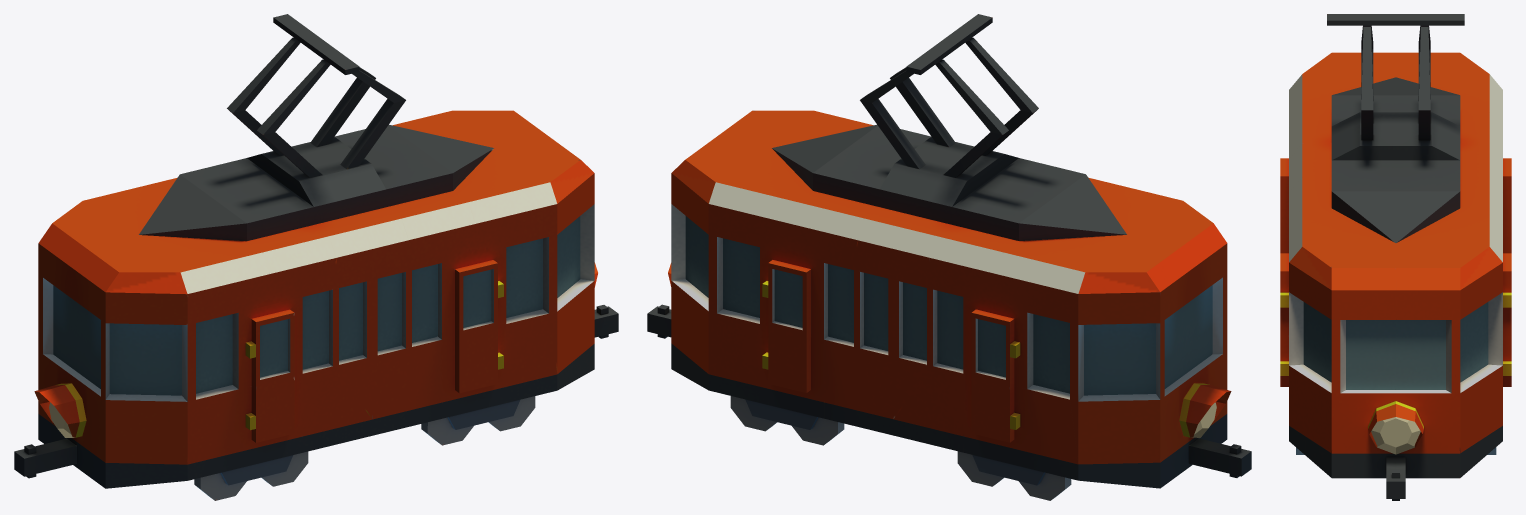
File: PUSHILIN_Tram.gltf
3 renders of one model, left to right at view 1: azimuth 30°, elevation 25°; view 2: azimuth 150°, elevation 25°; view 3: azimuth 270°, elevation 25°, orthographic. The views are drawn at different scales.
Parts seen in each view (by area): view 1: node-0; view 2: node-0; view 3: node-0.
Part boxes in pixels (x1,y1,x2,y2): node-0: (14,14,618,500); node-0: (647,14,1251,500); node-0: (1280,14,1511,500).
Bounding box in the file's own units: 4.15 × 2.56 × 1.46.
1 material, 1 textured.
